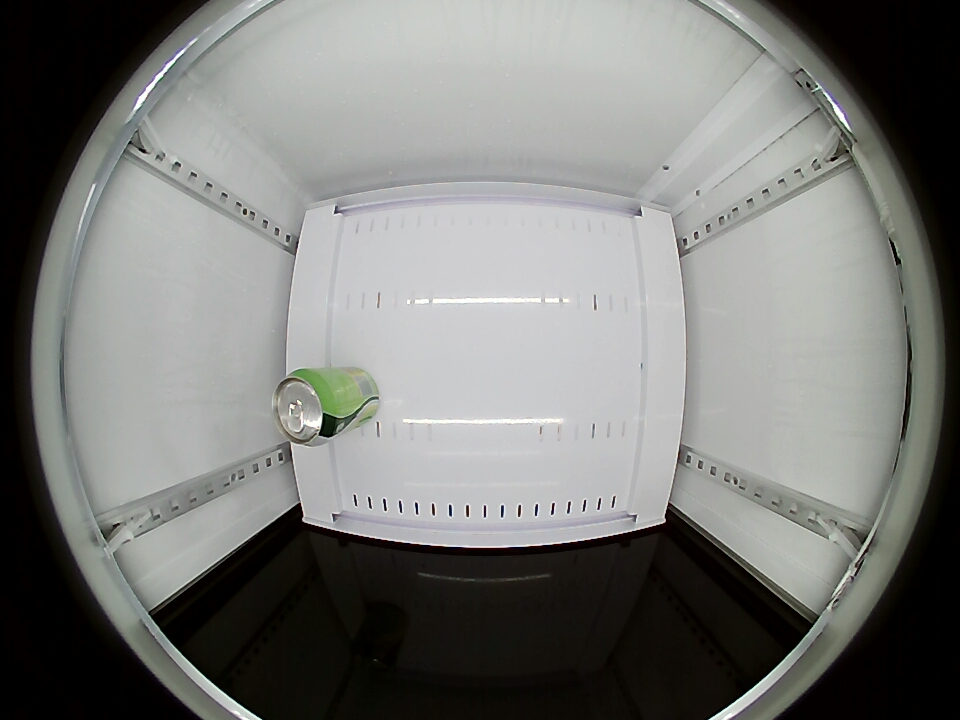quchenshixiangcao: (273, 369, 342, 445)
